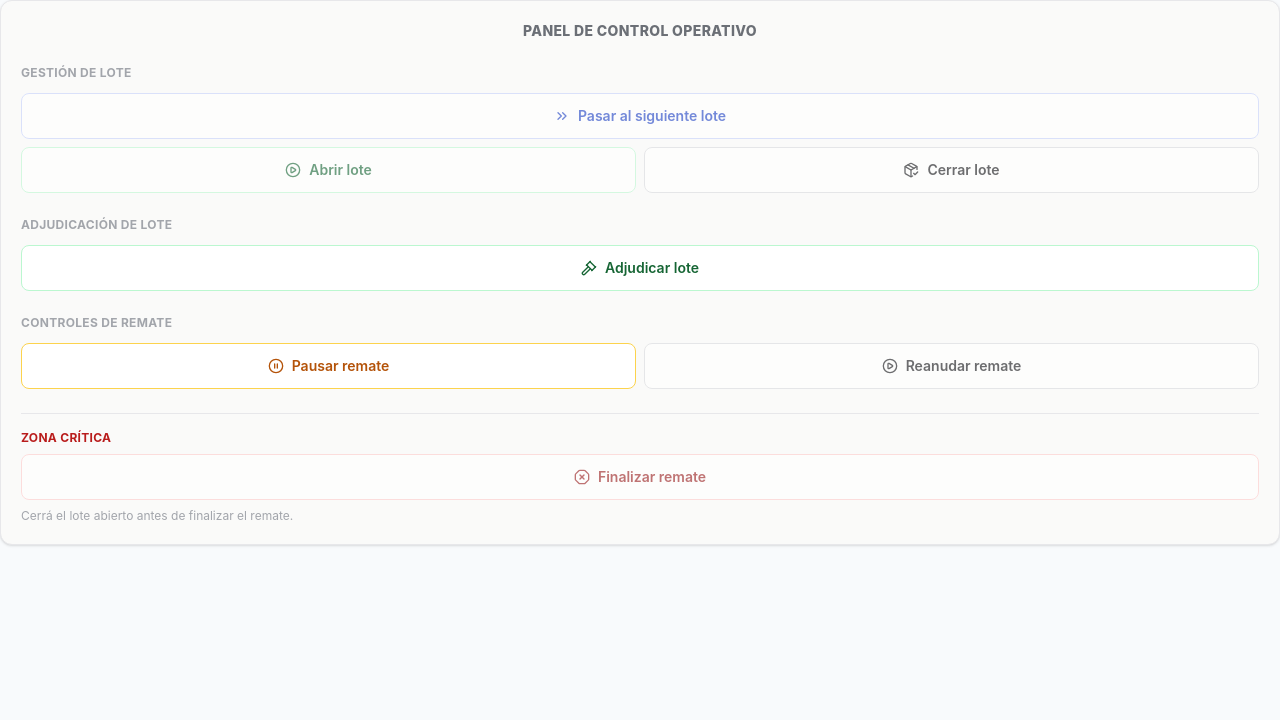
Test: ConsolaControlPanel › Adjudicar lote (exclusivo del caso con oferta ganadora) › advertencia de oferta reciente (menos de 10 segundos) › "Cancelar" en el modal de advertencia no adjudica
Step 1. Click the button "Adjudicar lote" → (640, 268), box [21,245,1259,291]
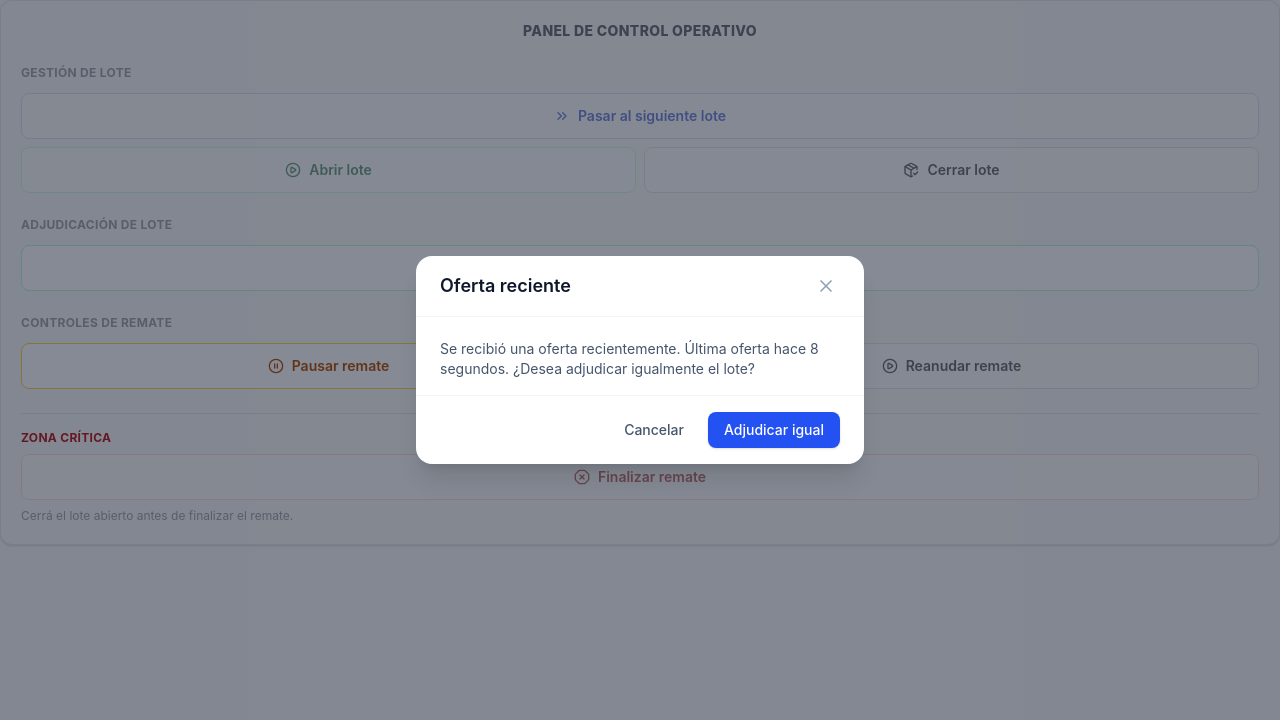
Step 2. Click the button "Cancelar" → (654, 430), box [608,412,700,448]
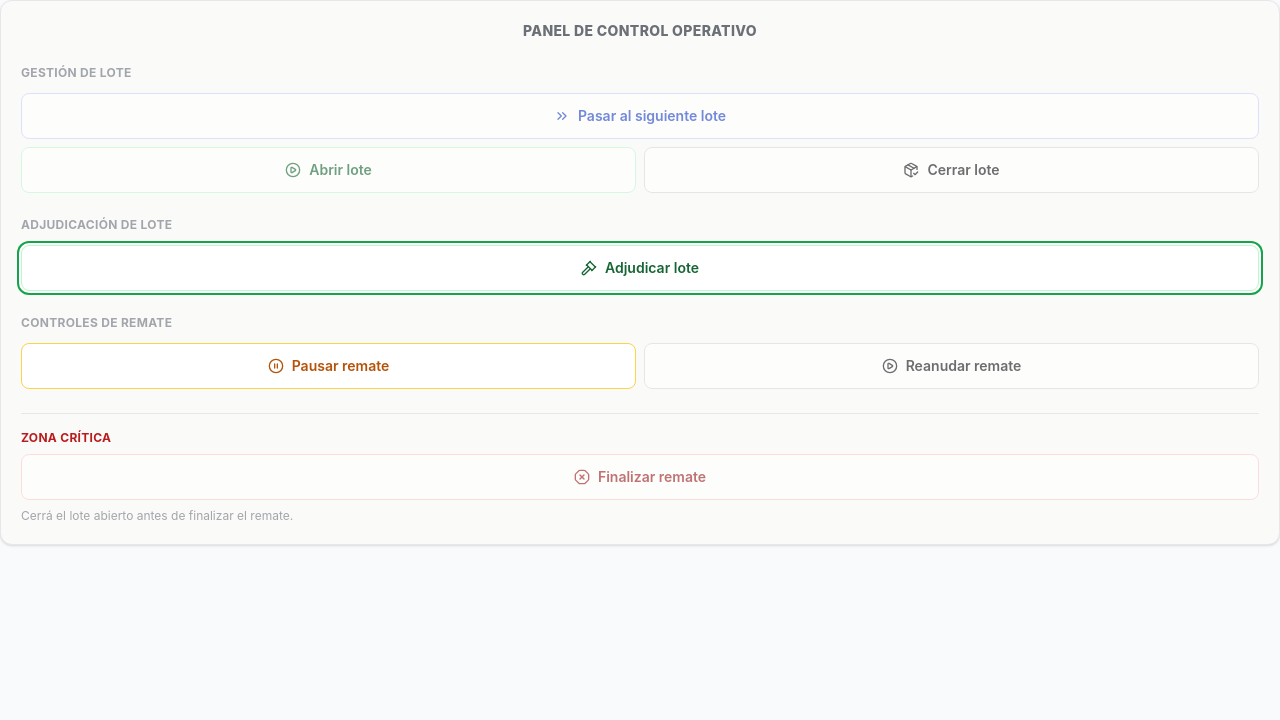
Check: the dialog is gone
